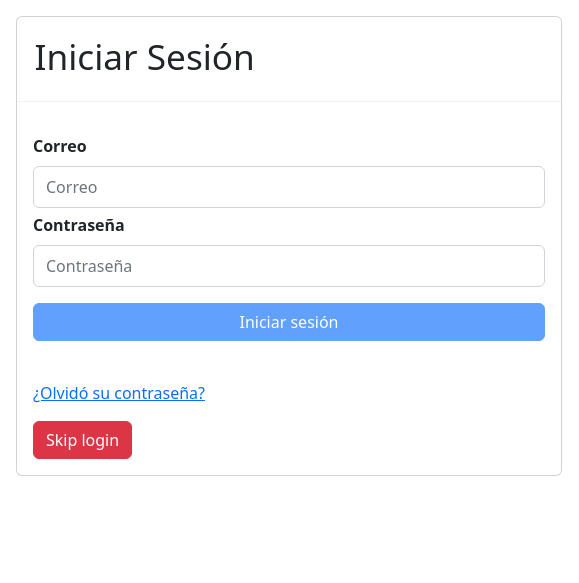
Test: Login › Invalid credentials display error
The width and height of the screenshot is (579, 583).
In the field with placeholder "Correo": (289, 187) [33,166,545,208], type "triton@example.com"
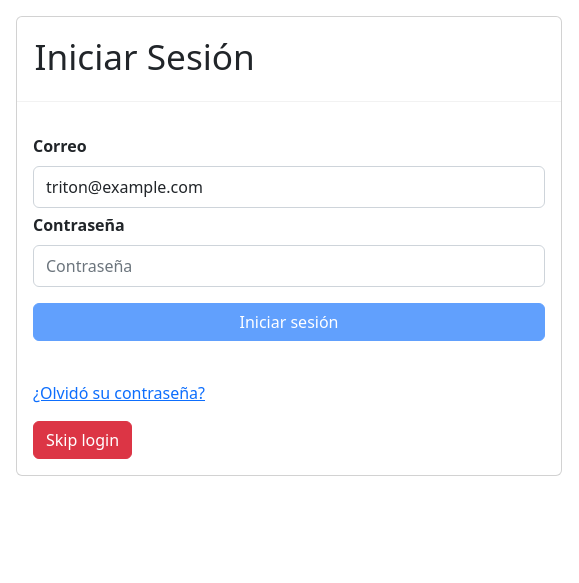
In the password field with placeholder "Contraseña": (289, 266) [33,245,545,287], type "6MonkeysRLooking^"
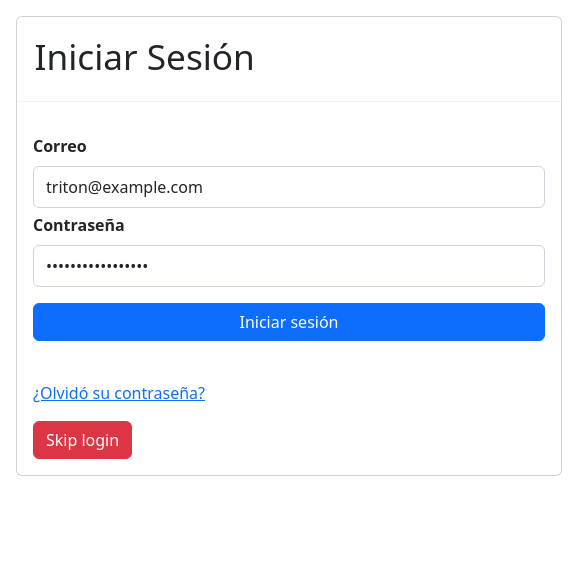
Click the button "Iniciar sesión": (289, 322) [33,303,545,341]
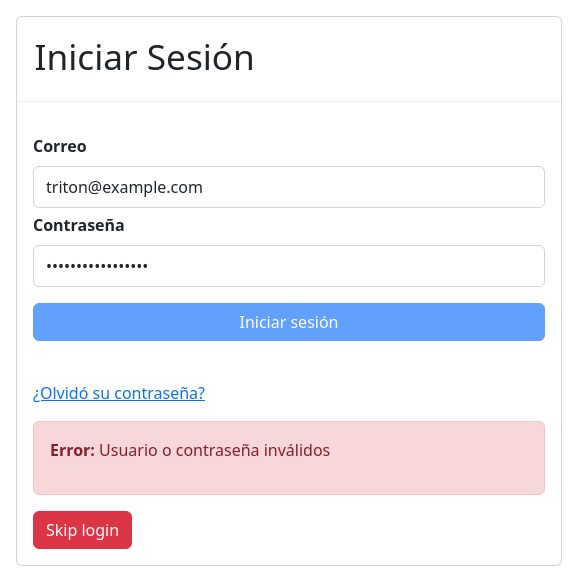
Expected: the text "Error: Usuario o contraseña inválidos" is shown, [50,439,330,461]
